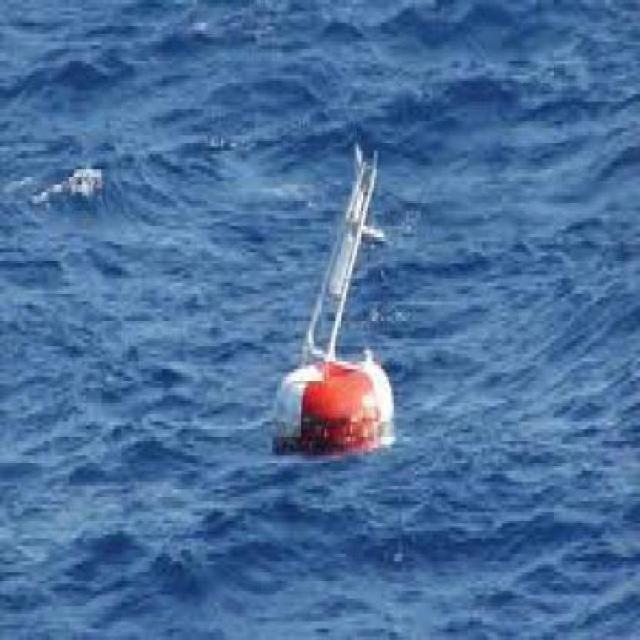buoy: (270, 144, 394, 453)
